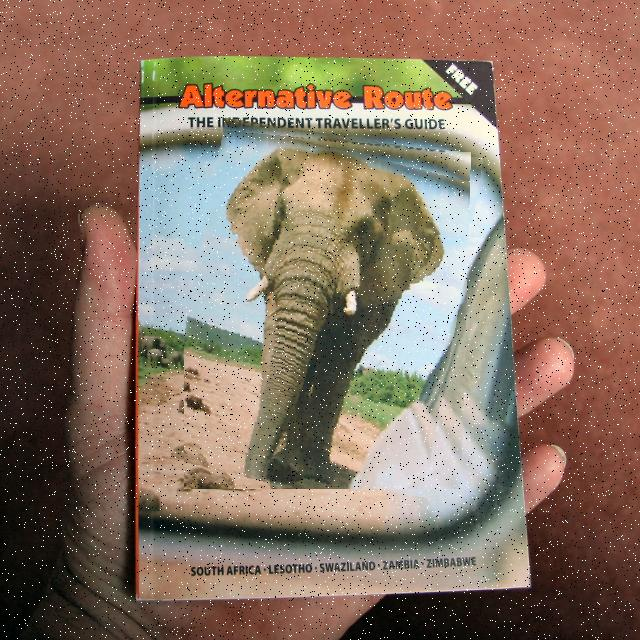elephant: (184, 127, 471, 489)
